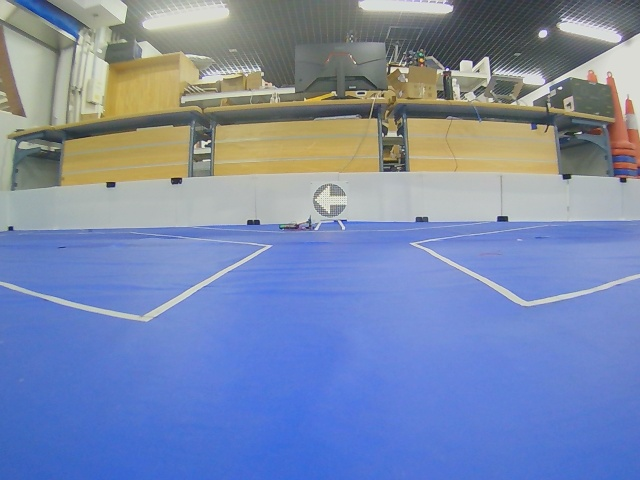left_yellow: (313, 183, 347, 218)
